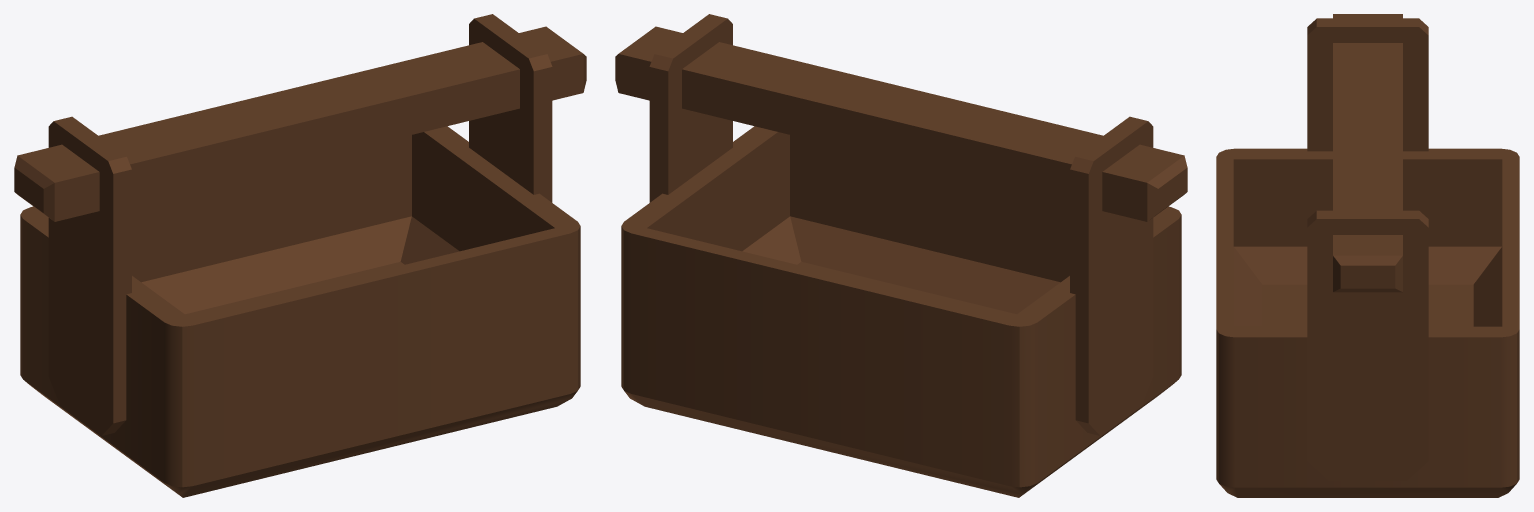
Rendered from woodencontainerwithhandle.fbx.
3 views of the same model, side by side, from view 1: azimuth 30°, elevation 25°; view 2: azimuth 150°, elevation 25°; view 3: azimuth 270°, elevation 25° (orthographic). The views are drawn at different scales.
Visible parts, largest first — view 1: Cube.007; view 2: Cube.007; view 3: Cube.007.
Boxes of the visible parts, x1,y1,x2,y2 form: Cube.007: (14, 14, 586, 497); Cube.007: (615, 14, 1187, 497); Cube.007: (1216, 14, 1519, 497).
Size of the model in its own units: 1.16 by 0.6418 by 0.6.
